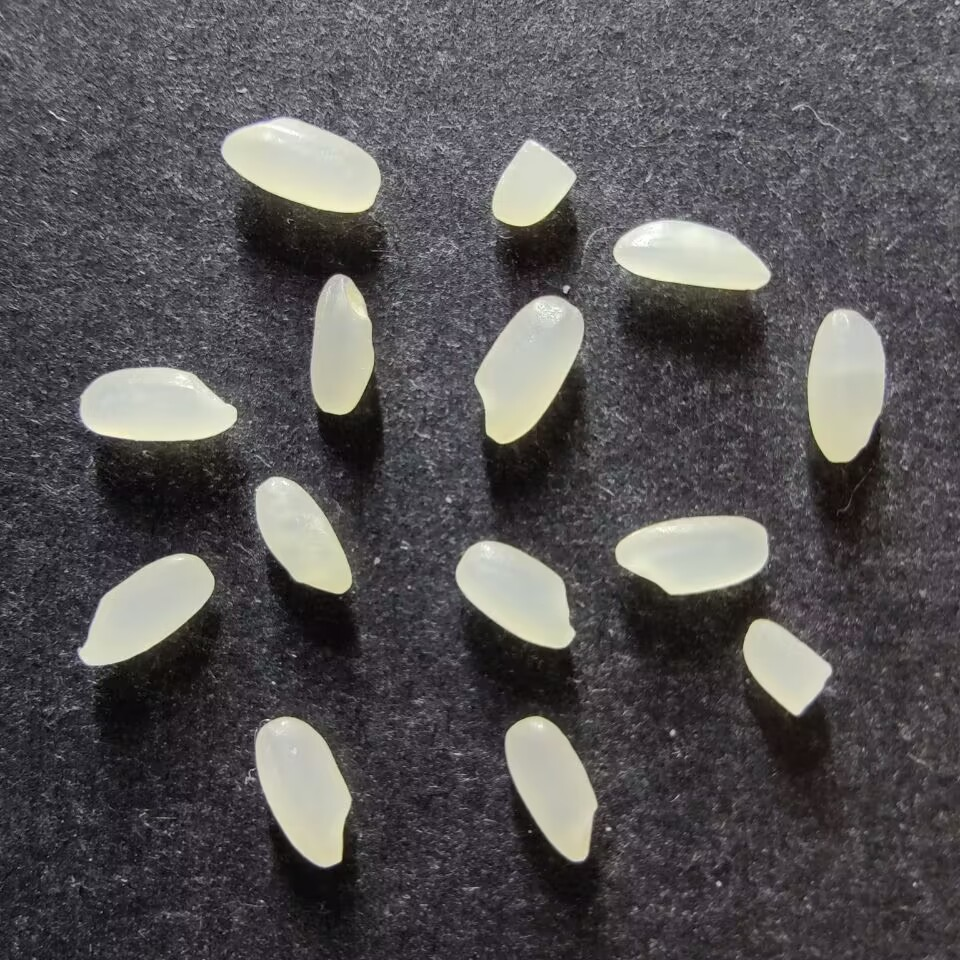broken: (741, 618, 832, 716), (489, 138, 577, 227)
rice: (473, 296, 584, 444), (77, 551, 215, 668), (219, 116, 380, 213), (253, 716, 352, 868), (503, 715, 597, 863), (454, 541, 576, 650), (614, 515, 769, 596), (805, 309, 886, 463), (78, 366, 237, 442), (253, 477, 353, 596), (612, 219, 771, 290), (309, 273, 375, 415)
